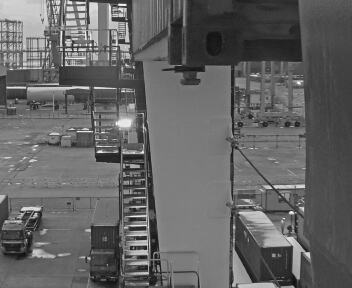twist_lock_1: (168, 58, 209, 92)
